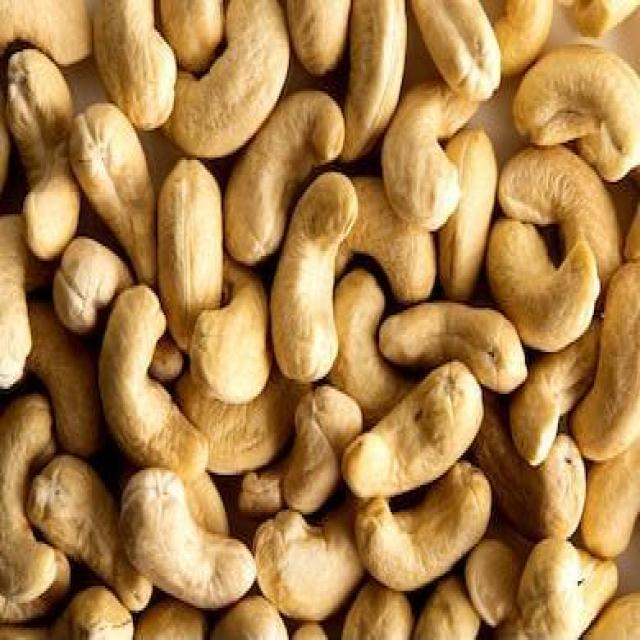Cashew: (93, 284, 194, 460), (131, 461, 257, 600), (268, 164, 341, 400), (393, 278, 524, 402), (346, 376, 476, 494), (501, 38, 640, 148), (386, 98, 470, 250), (200, 0, 302, 119), (494, 225, 596, 335), (84, 105, 172, 232), (521, 531, 618, 640), (11, 60, 76, 220), (367, 487, 482, 577), (85, 0, 187, 101), (0, 381, 55, 564), (348, 0, 412, 153), (50, 460, 121, 576), (256, 503, 344, 595), (603, 259, 640, 437), (463, 542, 522, 630), (56, 232, 104, 328), (0, 248, 36, 363), (351, 576, 412, 640), (224, 588, 292, 640), (422, 588, 470, 640)
